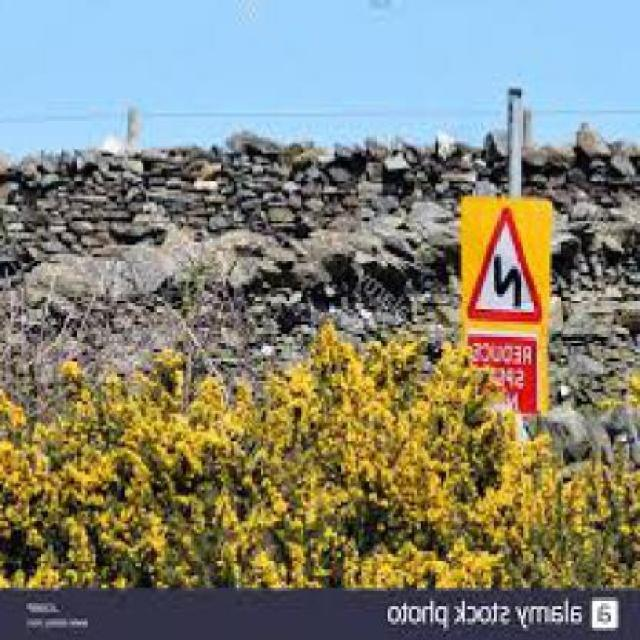warn_double_curve: (468, 208, 545, 328)
